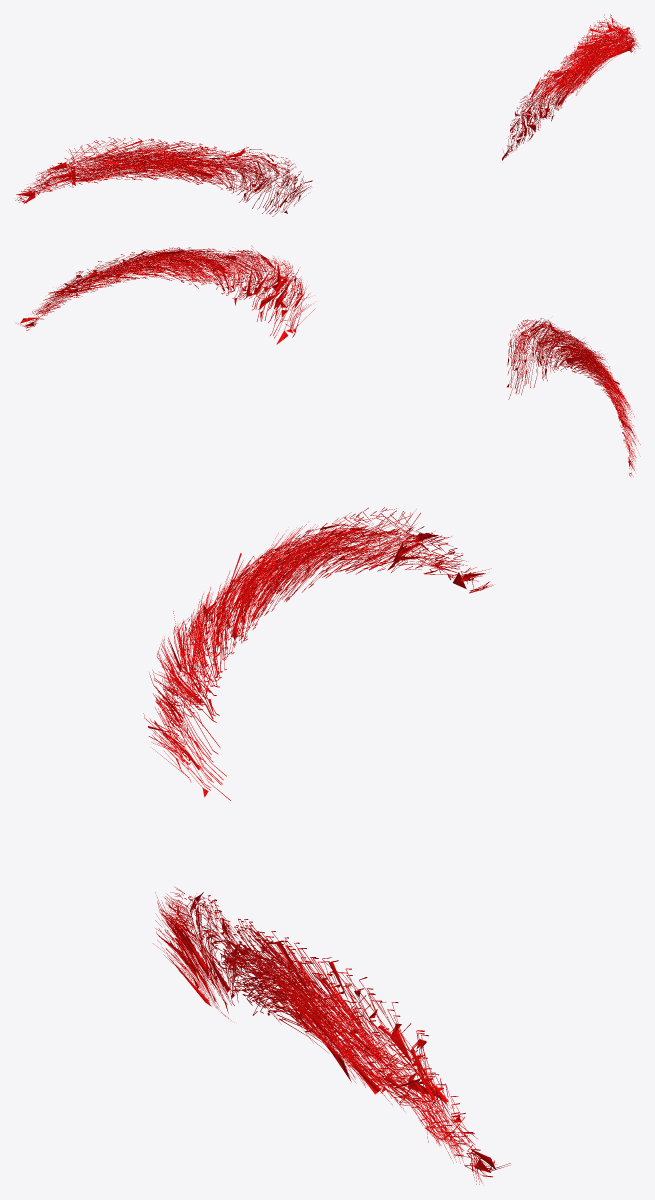
File: mindfront_eyebrows_12_M.glb
The picture shows the model from 3 angles, top to bottom: view 1: azimuth 30°, elevation 25°; view 2: azimuth 150°, elevation 25°; view 3: azimuth 270°, elevation 25°; orthographic projection. The views are drawn at different scales.
Size of the model in its own units: 0.1228 by 0.0166 by 0.0319.
Materials: 1 (1 with a texture image).
